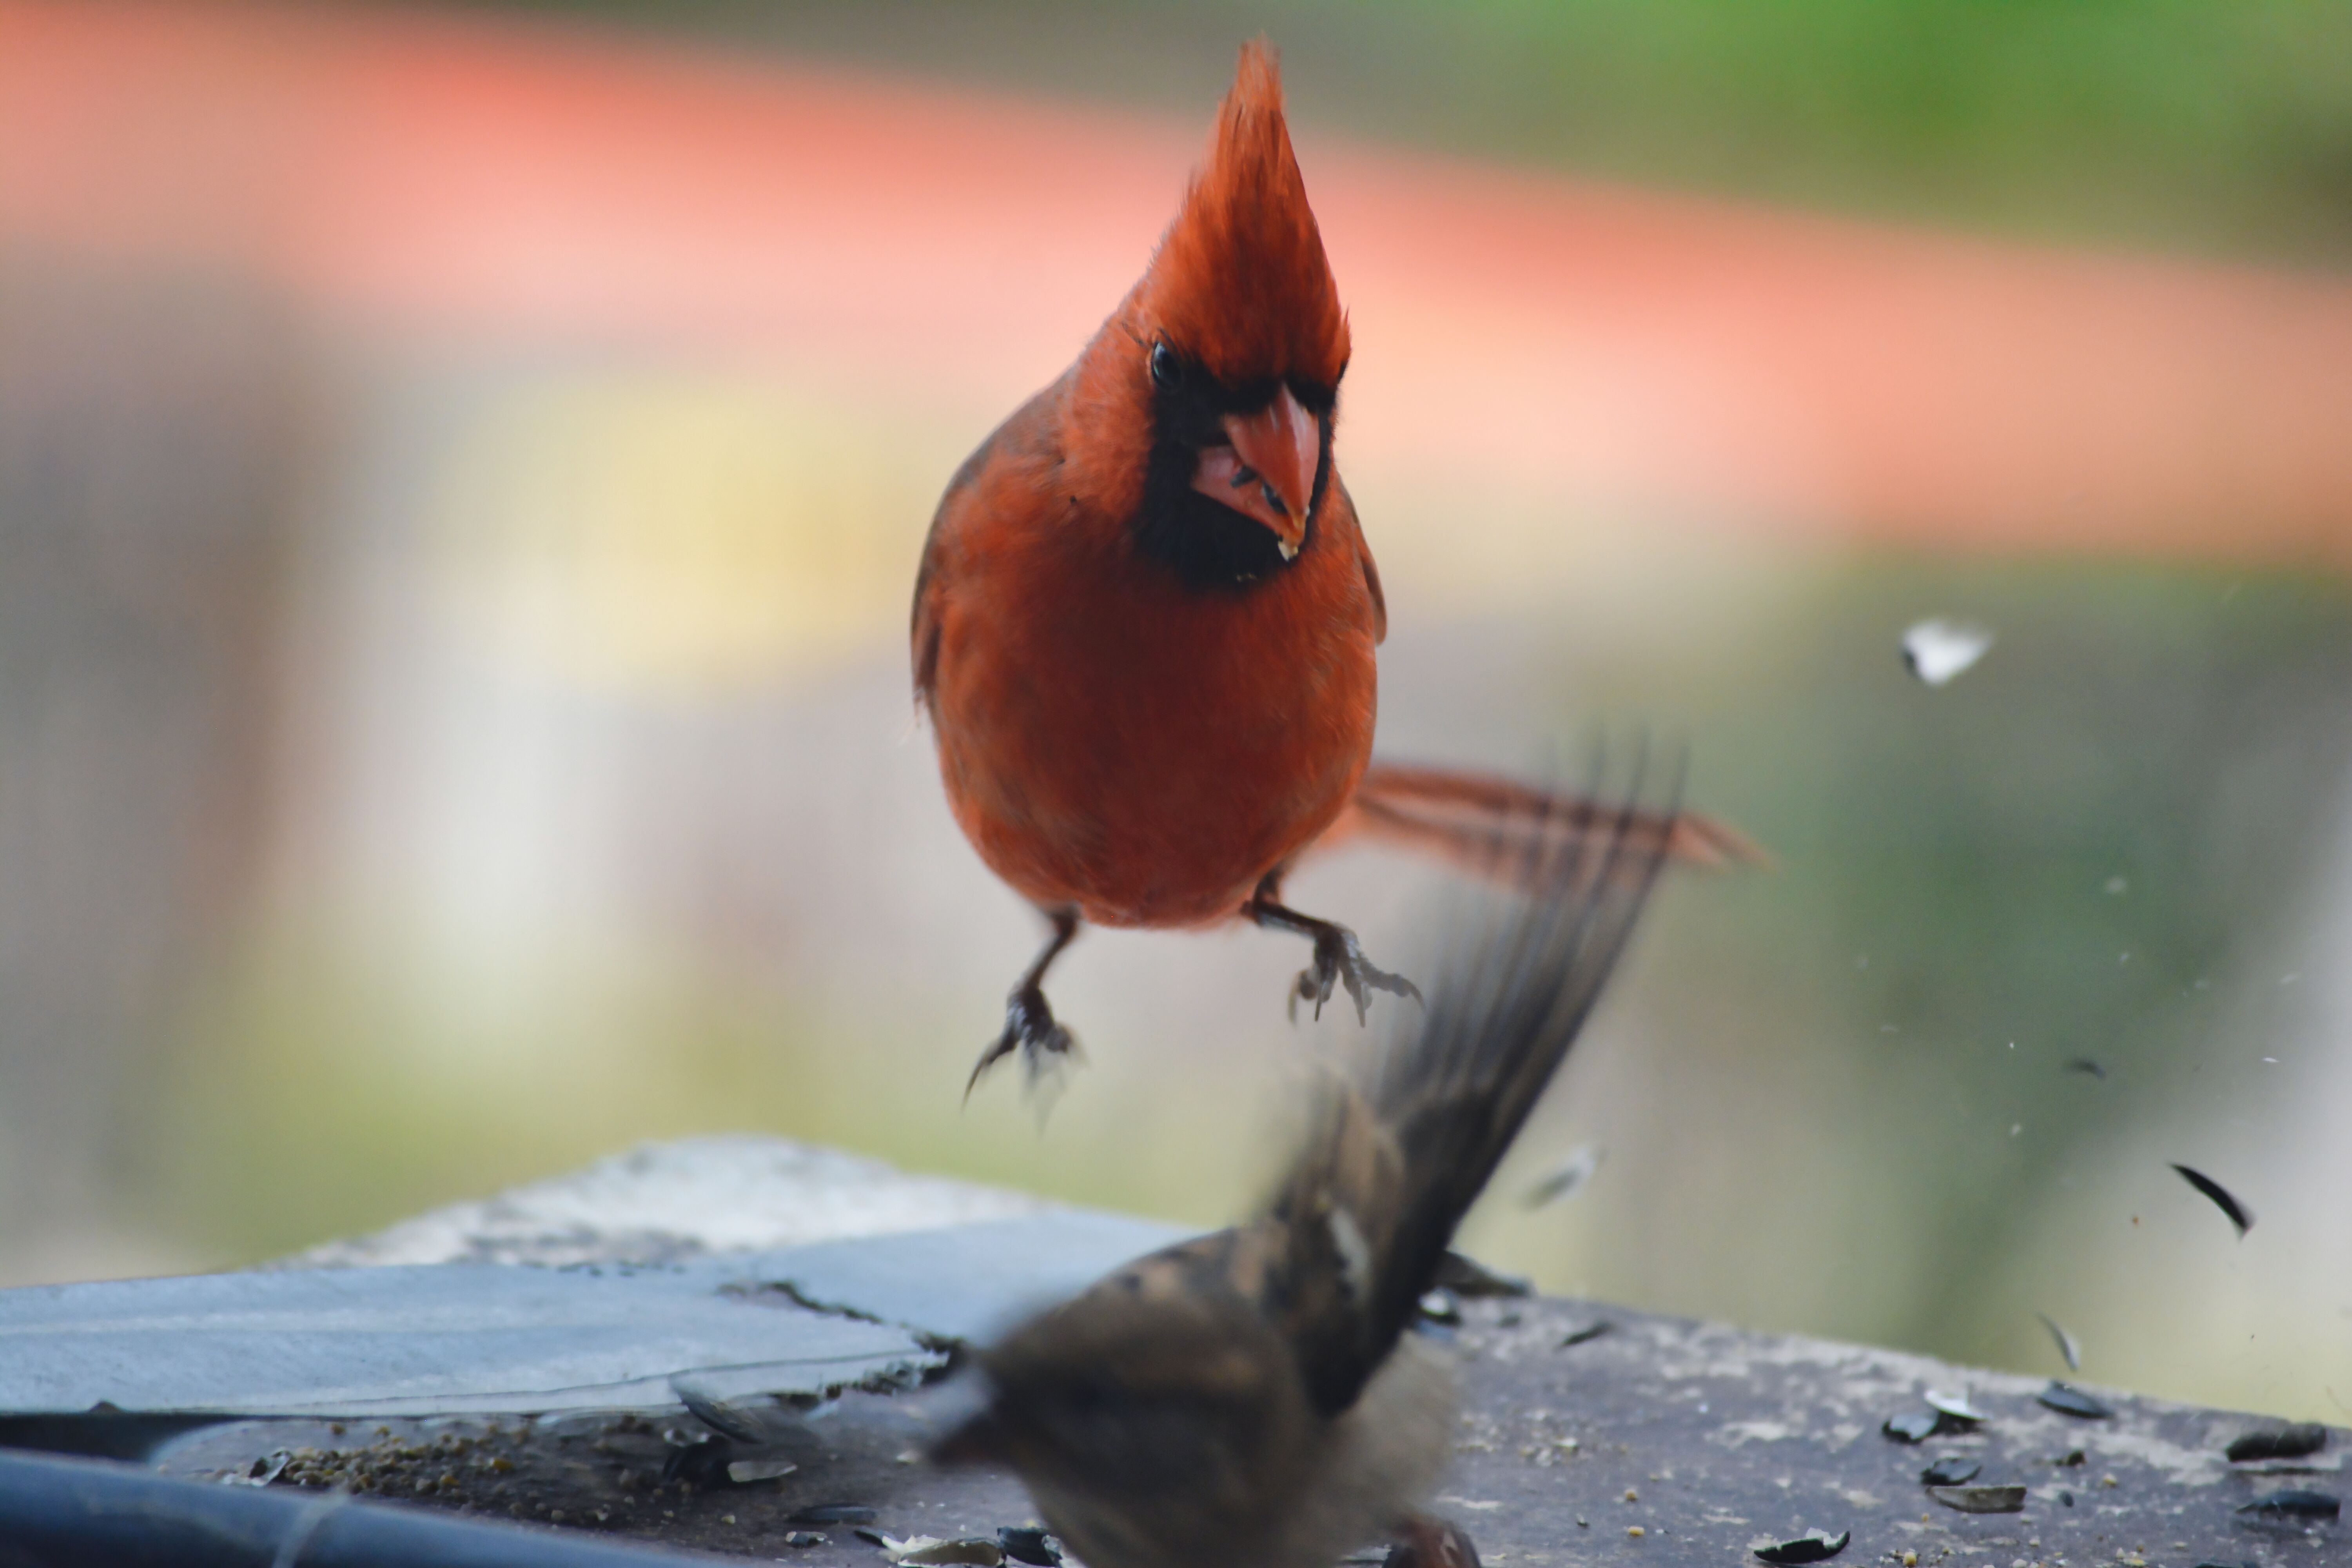bird: (892, 47, 1771, 1113)
nonbird: (68, 929, 754, 1543)
